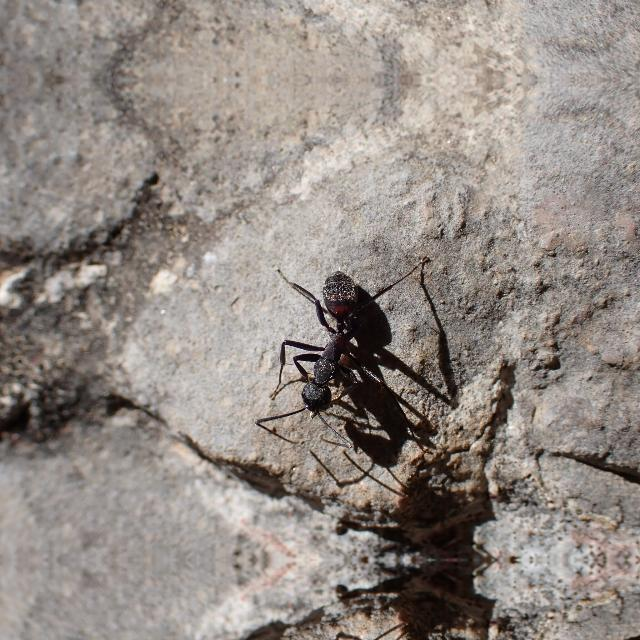Camponotus: (258, 260, 407, 436)
